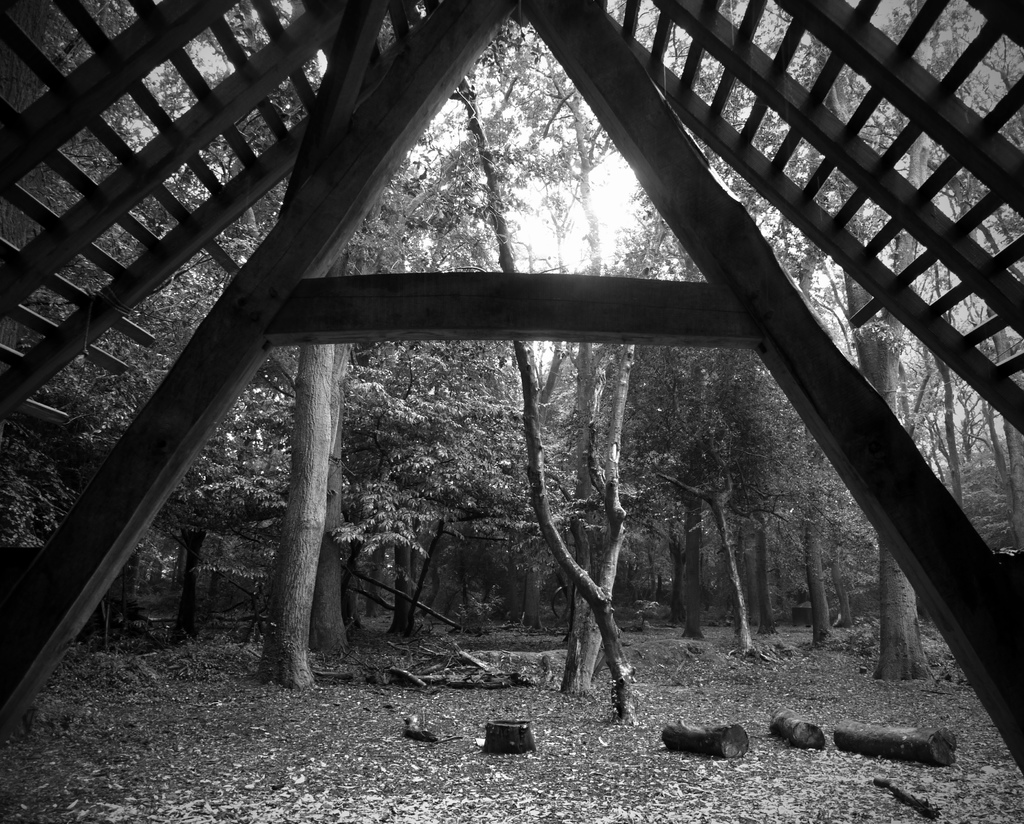Tree: (0, 4, 1023, 729)
